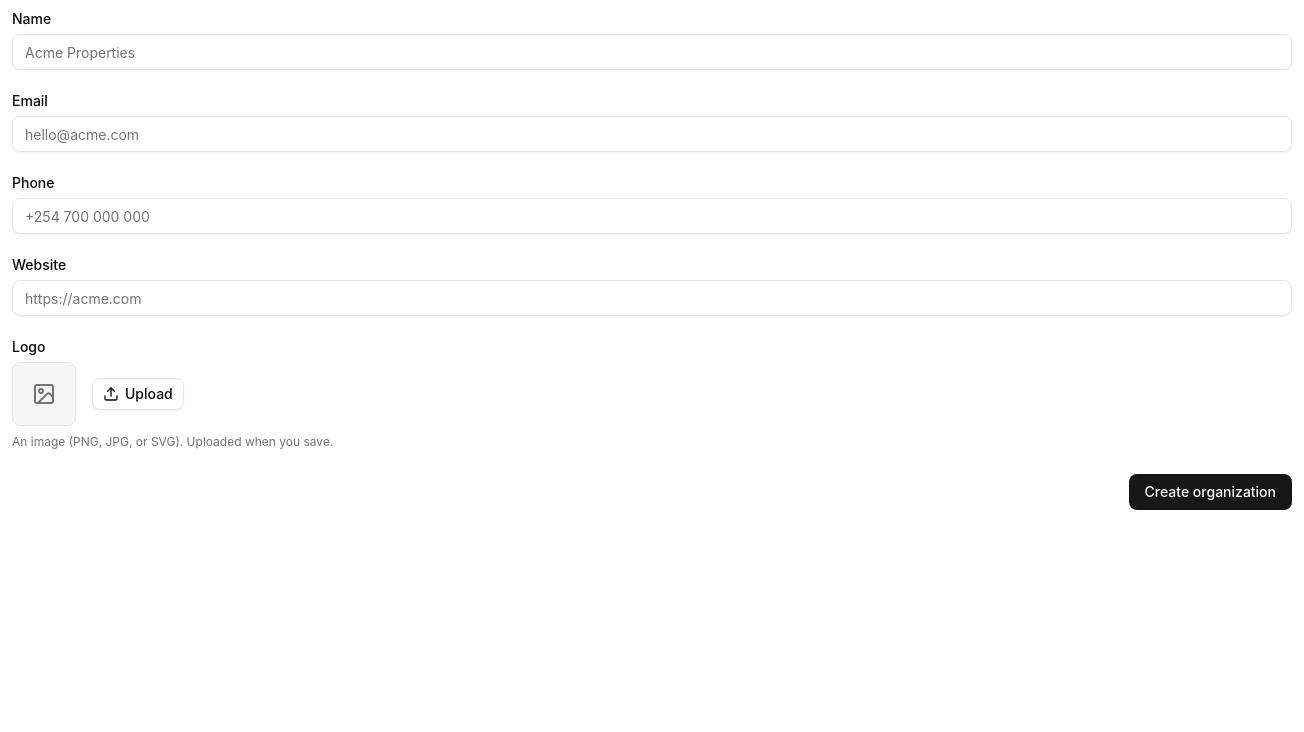
Test: OrganizationForm › blocks submit and shows validation errors when empty
What coordinates should you click on to do the following:
click the button "Create organization"
I would click on:
 (1210, 492)
Its box is [1129,474,1292,510].
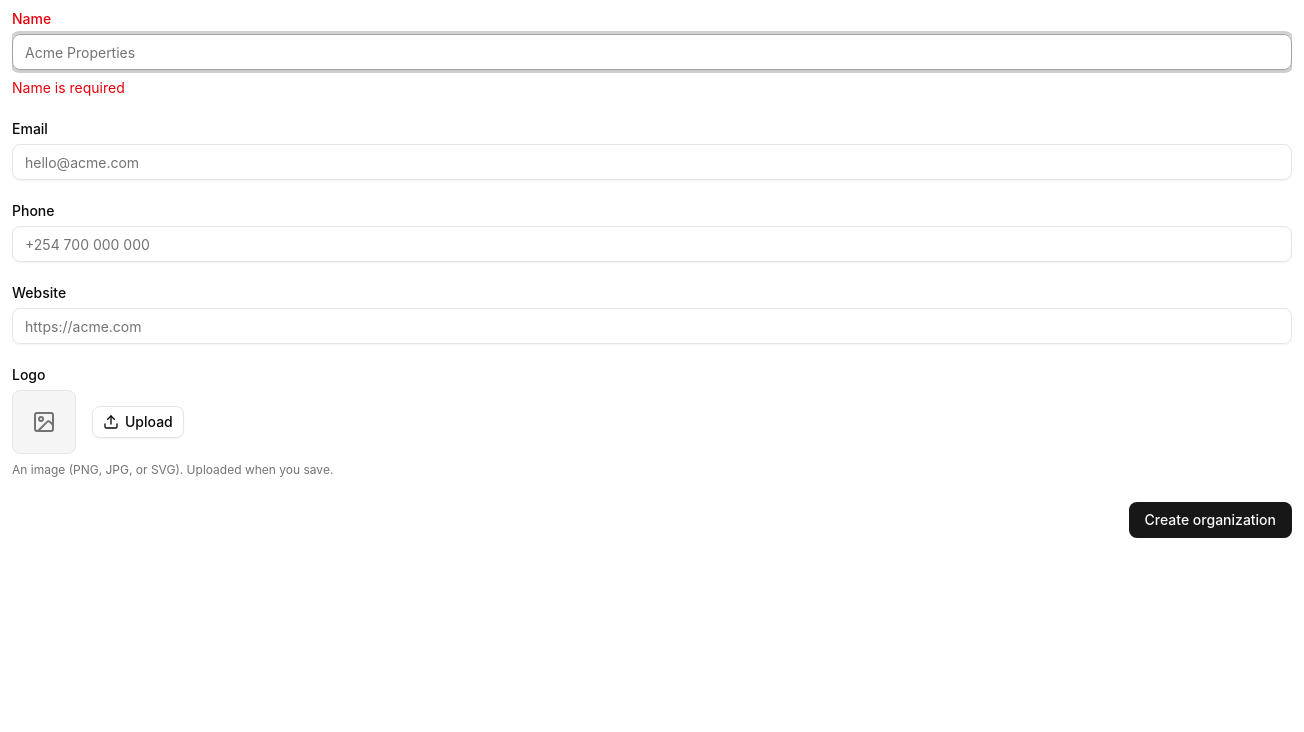
Expected: the text "Name is required" is shown, [12,79,125,96]
